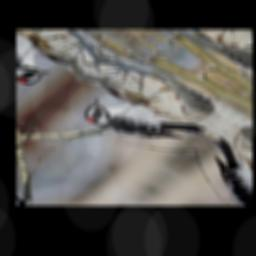Woodpecker: (77, 76, 210, 167)
